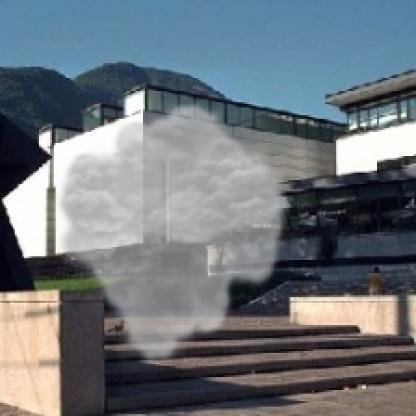smoke: (63, 115, 288, 353)
